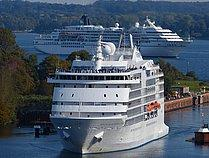Ship: (48, 33, 175, 158), (30, 22, 188, 61)
